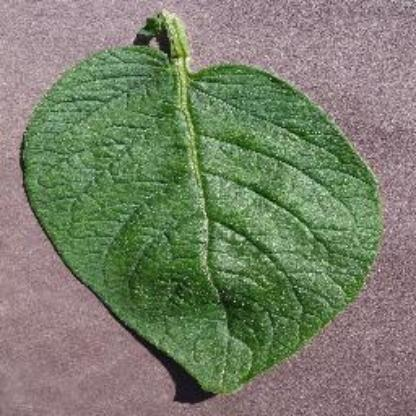Healthy-plant: (21, 11, 382, 395)
